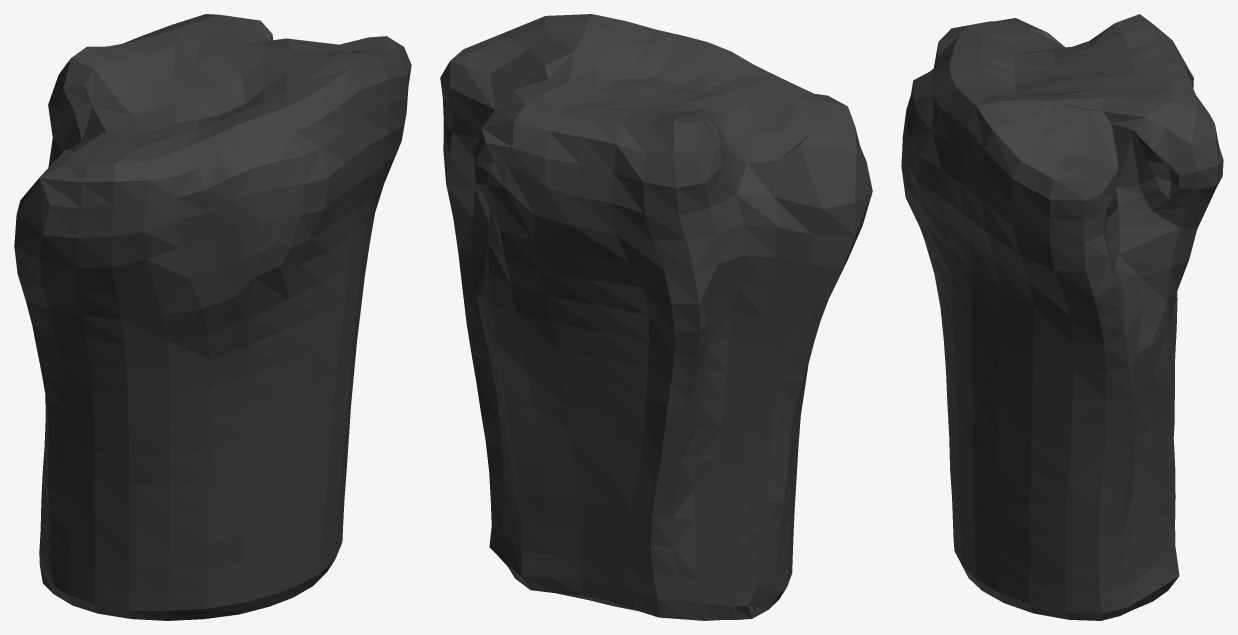
File: Metacarpal_bone.glb
3 views of the same model, side by side, from view 1: azimuth 30°, elevation 25°; view 2: azimuth 150°, elevation 25°; view 3: azimuth 270°, elevation 25° (orthographic). The views are drawn at different scales.
Parts seen in each view (by area): view 1: Metacarpal_bone; view 2: Metacarpal_bone; view 3: Metacarpal_bone.
Boxes of the visible parts, bbox=[...] form: Metacarpal_bone: bbox=[14, 14, 411, 620]; Metacarpal_bone: bbox=[440, 14, 872, 620]; Metacarpal_bone: bbox=[901, 14, 1223, 620].
Size of the model in its own units: 56.07 by 68.28 by 39.58.
1 material, 1 textured.
